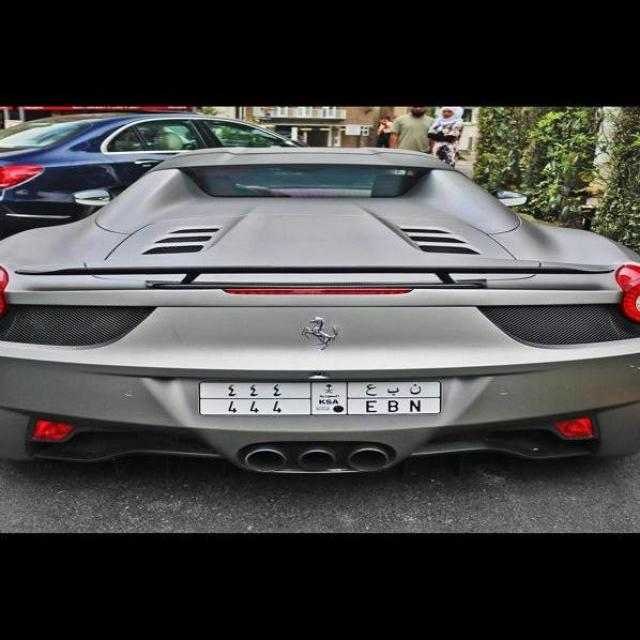license_plate: (201, 381, 437, 416)
